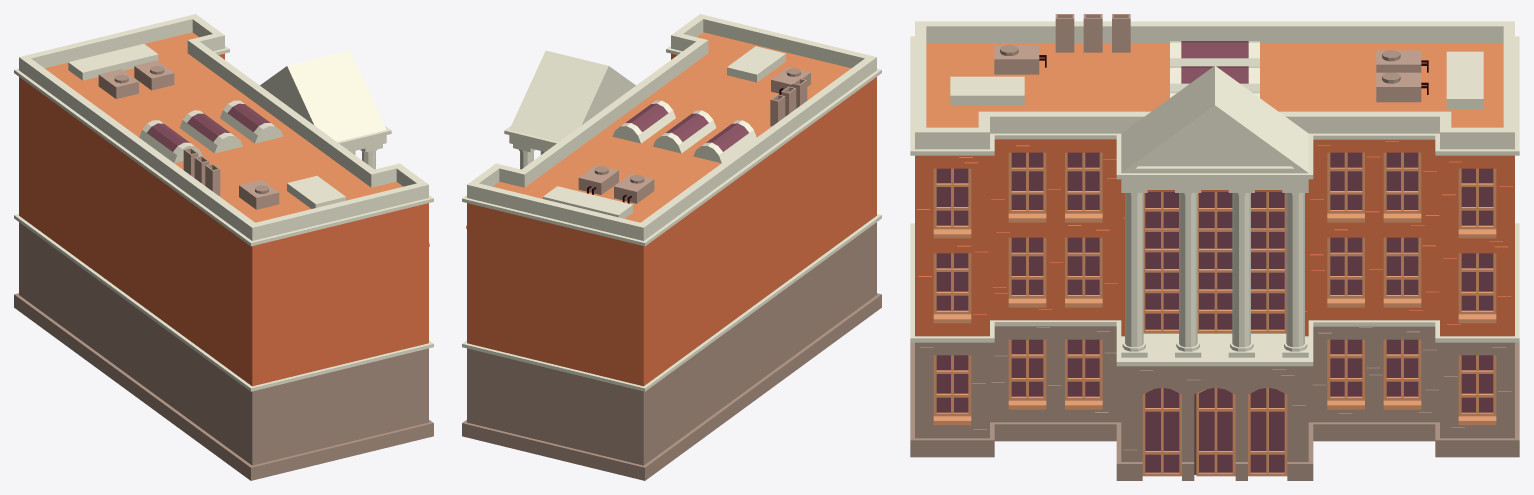
Rendered from university.glb.
The picture shows the model from 3 angles, left to right: view 1: azimuth 30°, elevation 25°; view 2: azimuth 150°, elevation 25°; view 3: azimuth 270°, elevation 25°; orthographic projection. The views are drawn at different scales.
Bounding box in the file's own units: 17.5 × 22 × 32.5.
1 material, 1 textured.
